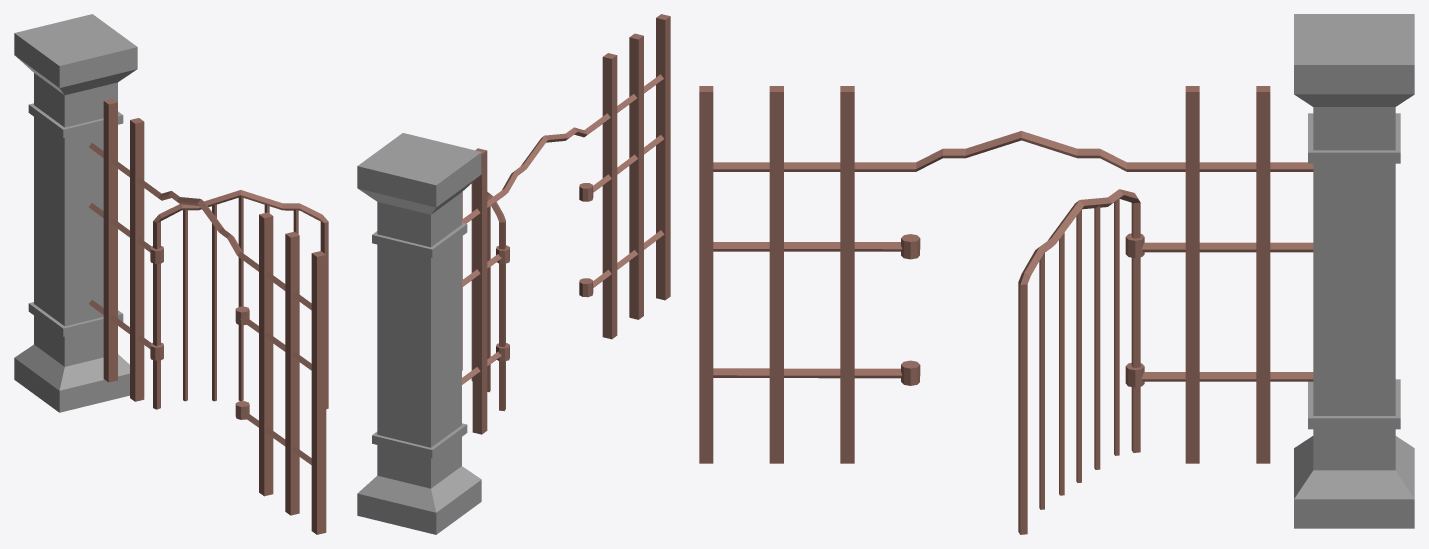
Rendered from poort-open.fbx.
3 views of the same model, side by side, from view 1: azimuth 30°, elevation 25°; view 2: azimuth 150°, elevation 25°; view 3: azimuth 270°, elevation 25° (orthographic). The views are drawn at different scales.
Visible parts, largest first — view 1: poort; view 2: poort; view 3: poort.
Boxes of the visible parts, box(x1,y1,x2,y2) form: poort: box(14, 14, 328, 534); poort: box(357, 14, 670, 534); poort: box(699, 14, 1414, 534).
Bounding box in the file's own units: 355 × 706 × 987.
